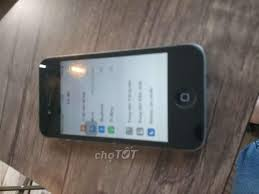iphone: (32, 43, 208, 155)
iphone4: (33, 43, 209, 155)
